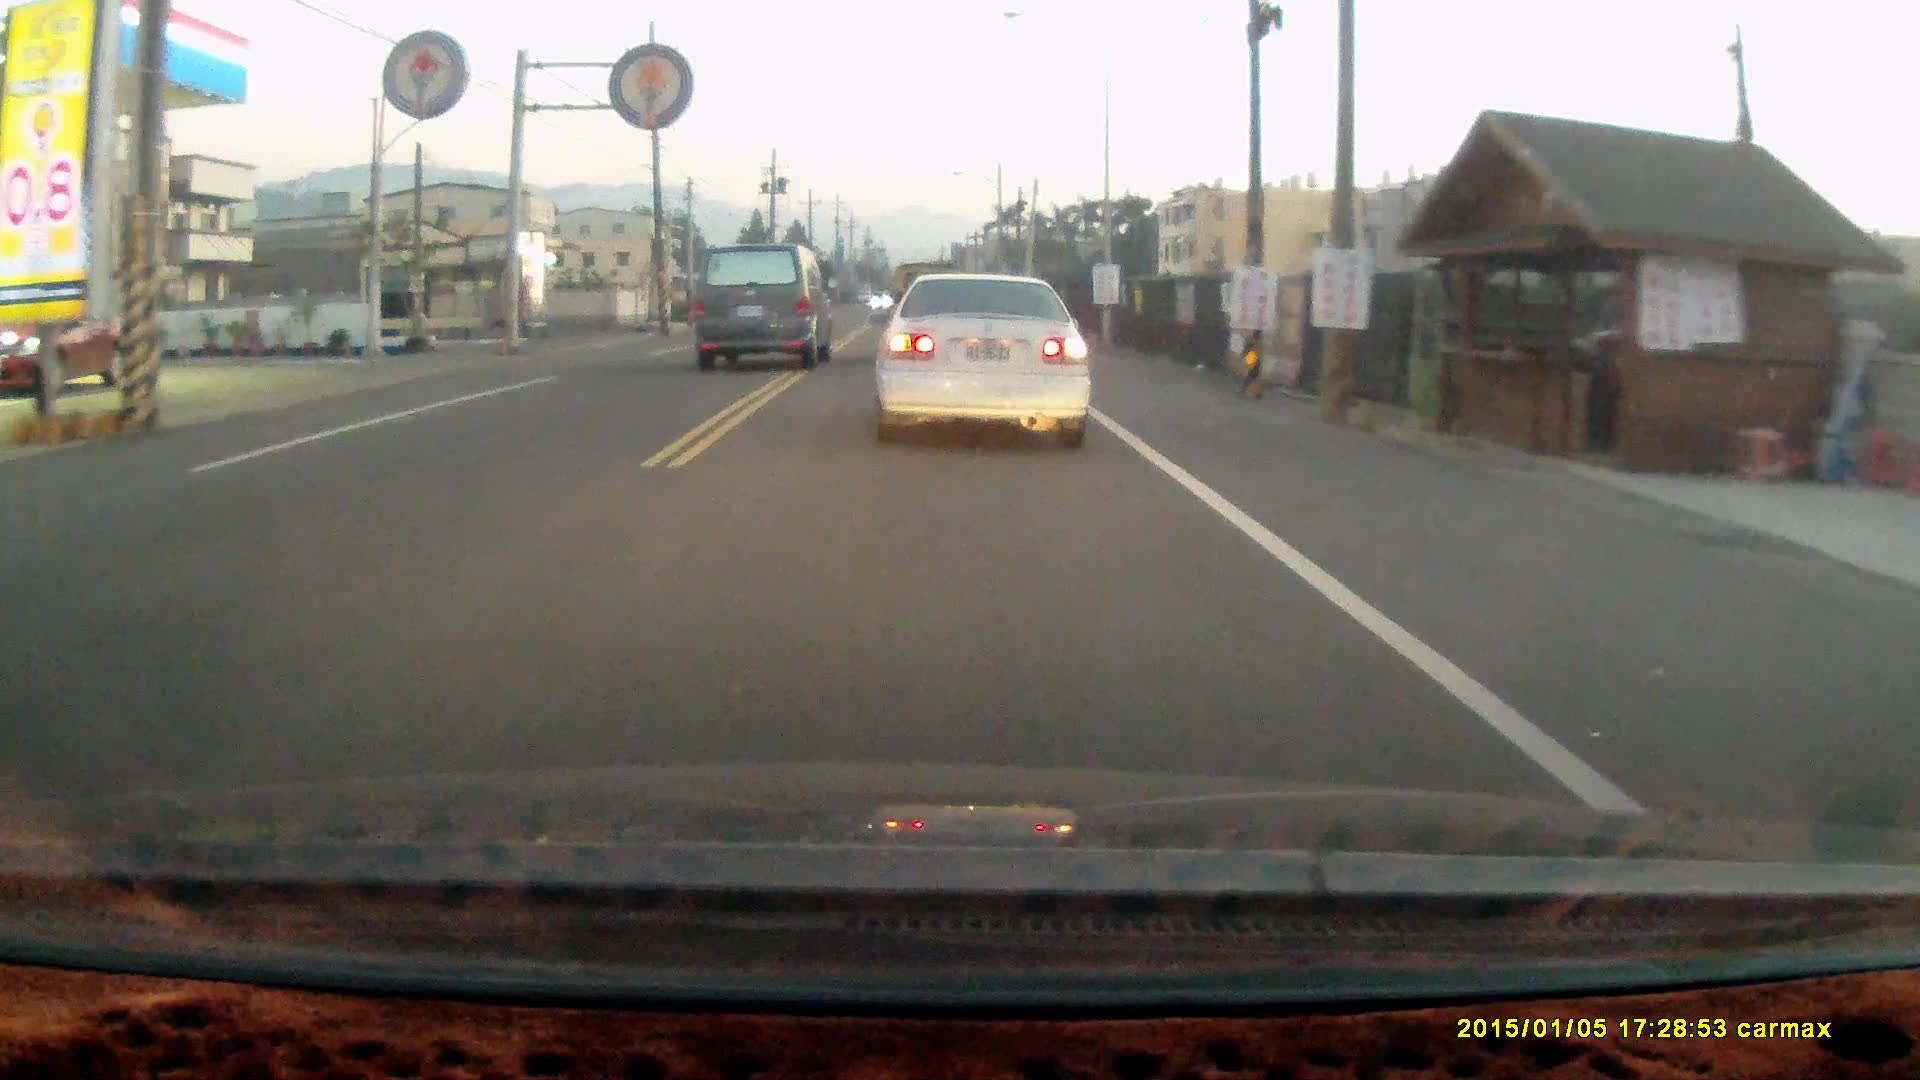pedestrian: (1589, 334, 1632, 433)
vehicle: (869, 268, 1094, 455), (689, 244, 837, 374), (6, 294, 139, 396)
